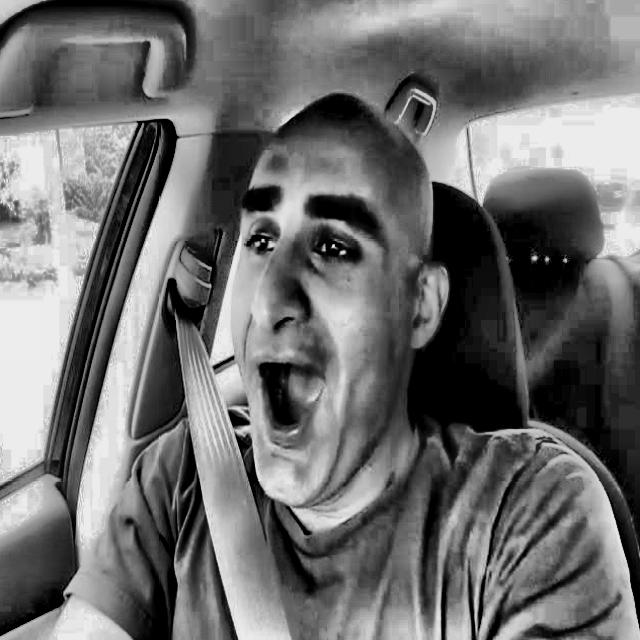open_eyes: (303, 219, 366, 283), (230, 215, 290, 267)
open_mouth: (238, 342, 348, 470)
